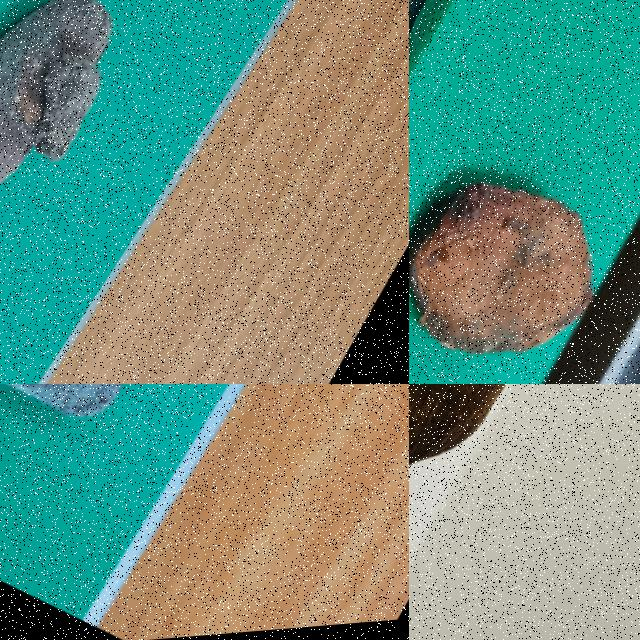Agglomerated_cocoabeans: (0, 0, 216, 351), (0, 384, 279, 570)
Fine_cocoabeans: (409, 384, 639, 536)
Flat_cocoabeans: (409, 61, 639, 383)
